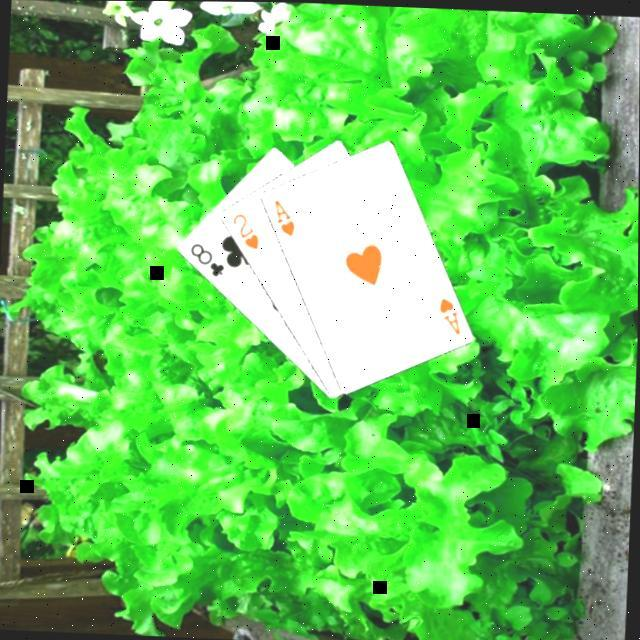2H: (226, 210, 261, 253)
8C: (185, 239, 226, 280)
AH: (432, 294, 463, 338), (268, 196, 296, 239)
